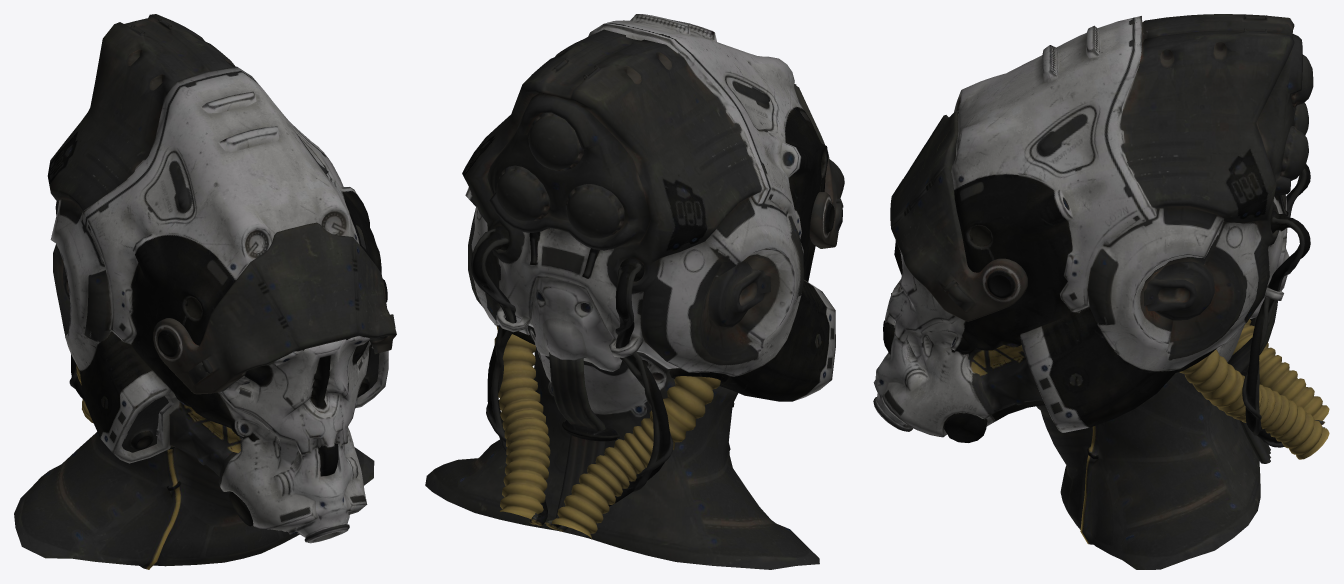
File: helmet_wet.glb
3 renders of one model, left to right at view 1: azimuth 30°, elevation 25°; view 2: azimuth 150°, elevation 25°; view 3: azimuth 270°, elevation 25°, orthographic. The views are drawn at different scales.
Visible parts, largest first — view 1: SciFiHelmet; view 2: SciFiHelmet; view 3: SciFiHelmet.
Part boxes in pixels (x1,y1,x2,y2): SciFiHelmet: [14, 14, 396, 569]; SciFiHelmet: [425, 14, 844, 569]; SciFiHelmet: [873, 14, 1329, 569].
Size of the model in its own units: 2.3 by 2.92 by 2.5.
1 material, 1 textured.
